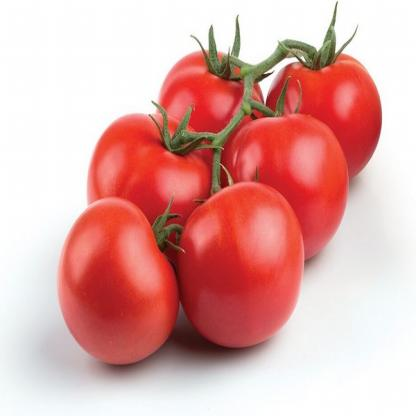---: (179, 175, 309, 357), (54, 193, 182, 372), (231, 102, 351, 264), (265, 46, 395, 180), (90, 101, 207, 244)
